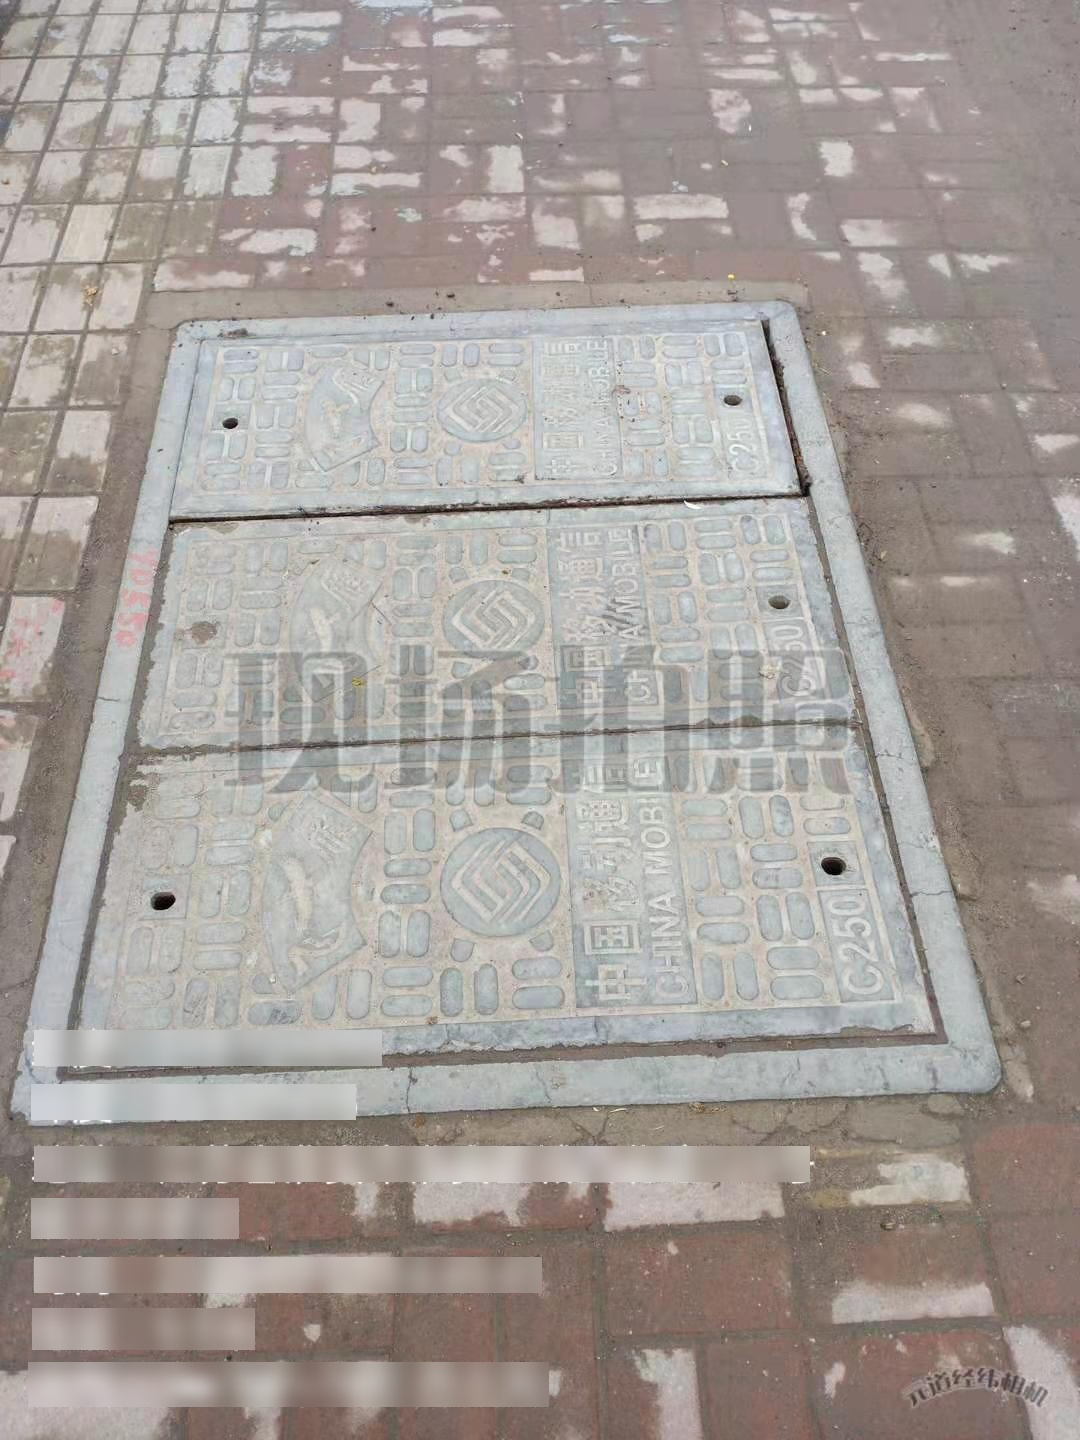good: (10, 297, 1009, 1124)
